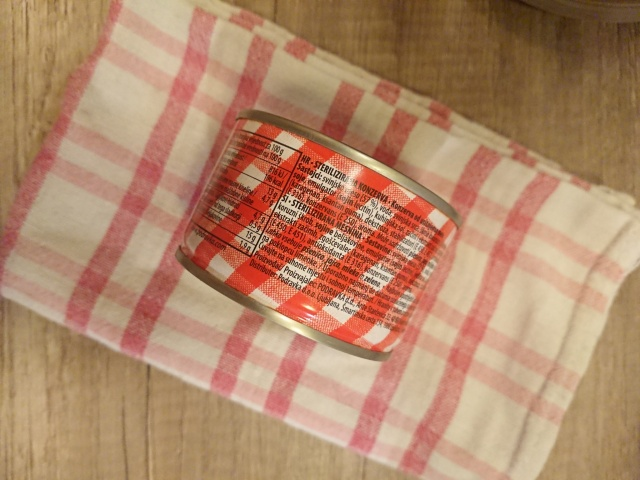Podravka Luncheon Meat 150g: (171, 106, 466, 365)
